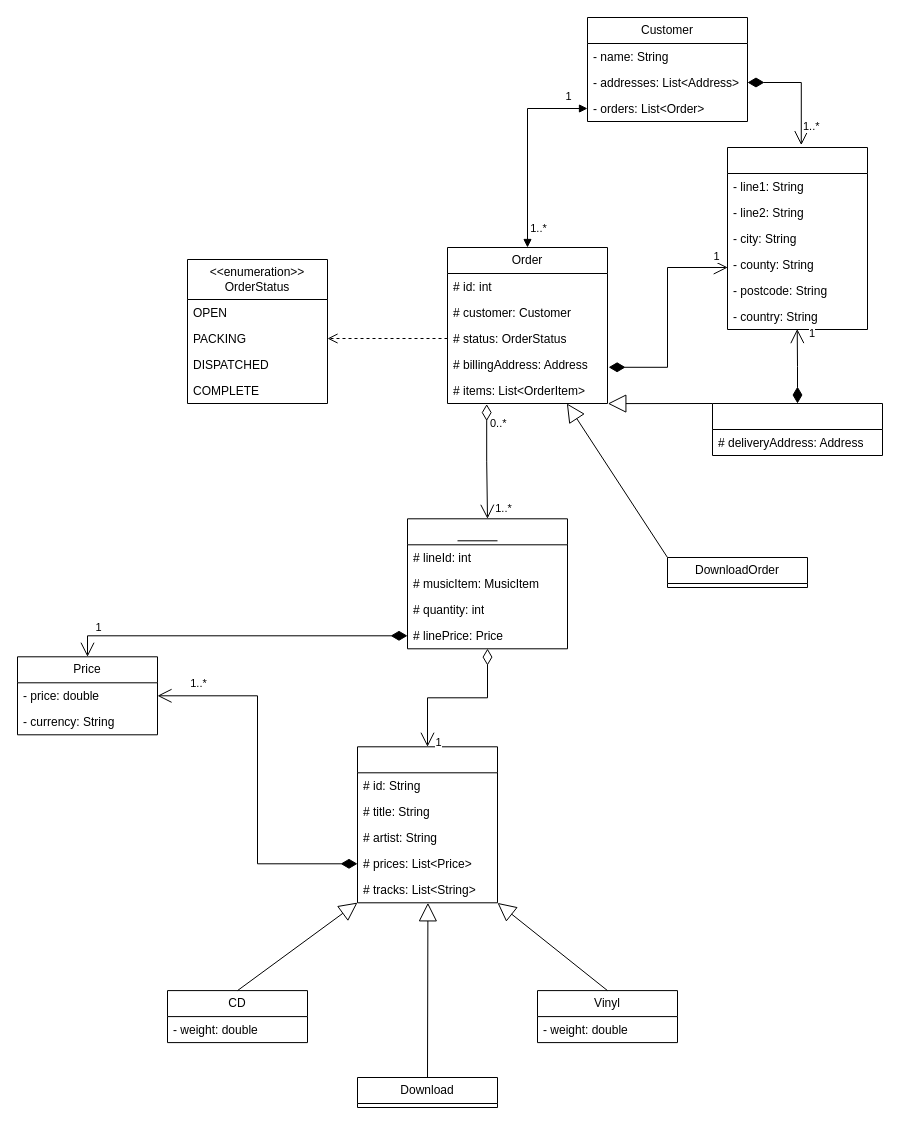
Some shapes in this 900 by 1125 pixel diagram are drawn without their labels. The shapes that lost their labels are listed below. From the top down, each one's box as (x1, y1, x2, y2) in pixels, then its label:
(726, 146, 868, 330): Address
(712, 402, 882, 456): DeliveryOrder
(406, 518, 568, 649): OrderItem
(356, 746, 498, 903): MusicItem
